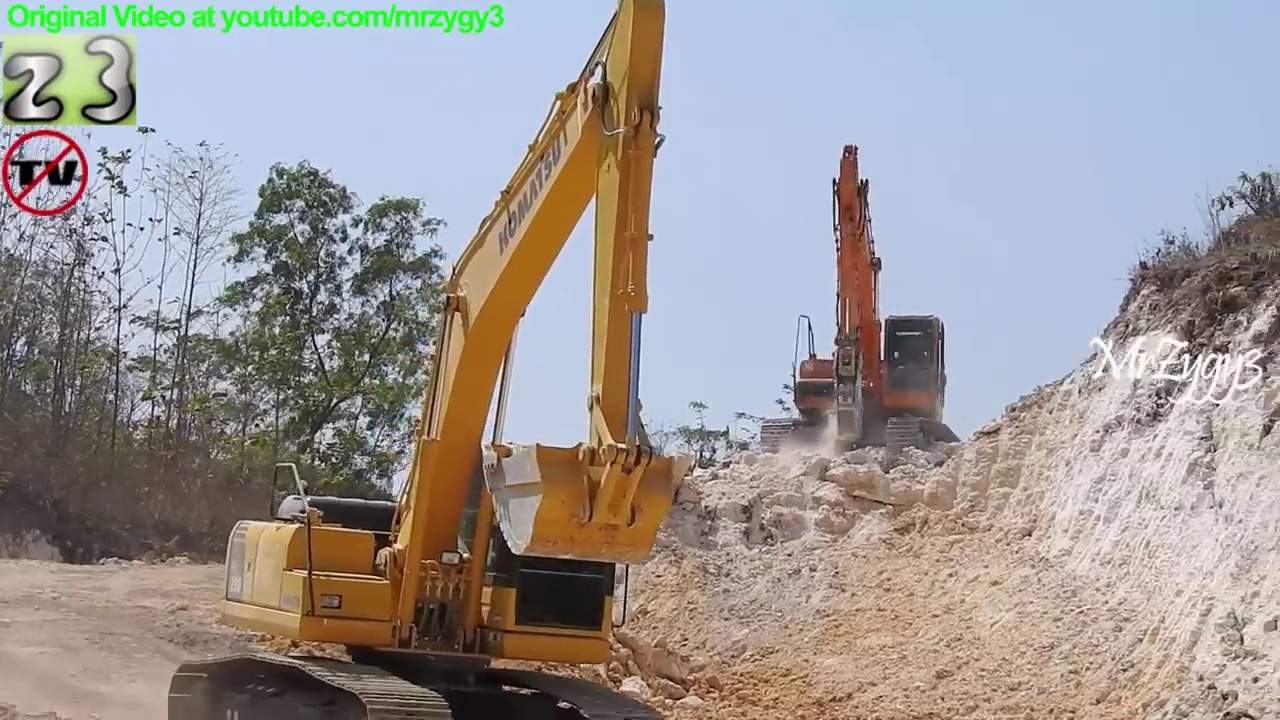excavator: (165, 1, 700, 720), (755, 141, 971, 474)
